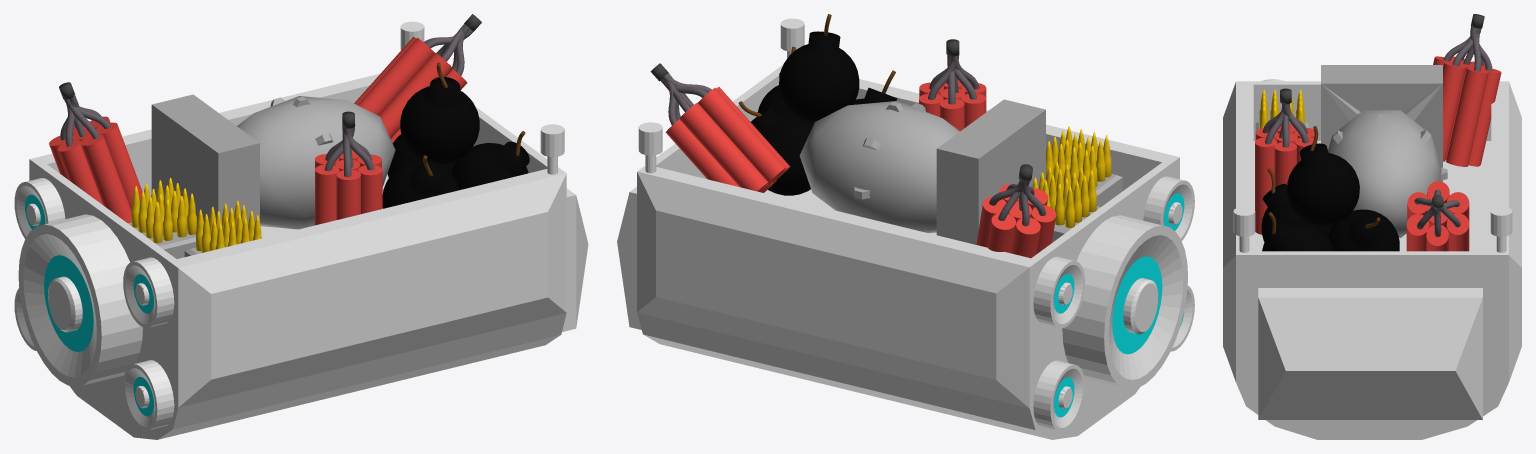
Rendered from Payload.fbx.
3 renders of one model, left to right at view 1: azimuth 30°, elevation 25°; view 2: azimuth 150°, elevation 25°; view 3: azimuth 270°, elevation 25°, orthographic. The views are drawn at different scales.
Parts seen in each view (by area): view 1: Cube, Icosphere, Cylinder.001, BezierCurve.009, Cylinder.002, Cylinder, Cube.001, BezierCurve.004, BezierCurve.005, Cube.002, BezierCurve.002, BezierCurve.001 (+2 smaller); view 2: Cube, Icosphere, Cylinder.002, BezierCurve.009, Cylinder.001, Cube.002, BezierCurve.008, Cube.001, Cylinder, BezierCurve.001, BezierCurve.002, BezierCurve.003 (+1 smaller); view 3: Cube, Icosphere, Cylinder.001, BezierCurve.009, Cylinder.002, Cylinder, BezierCurve.008, BezierCurve.004, BezierCurve.005, BezierCurve.001, BezierCurve.002, BezierCurve.003 (+1 smaller).
Boxes of the visible parts, x1,y1,x2,y2 form: Cube: [14, 21, 588, 439]; Icosphere: [151, 94, 395, 229]; Cylinder.001: [49, 82, 142, 223]; BezierCurve.009: [400, 62, 479, 164]; Cylinder.002: [354, 14, 481, 143]; Cylinder: [315, 111, 382, 225]; Cube.001: [128, 177, 196, 258]; BezierCurve.004: [451, 131, 529, 189]; BezierCurve.005: [382, 155, 459, 208]; Cube.002: [184, 200, 261, 256]; BezierCurve.002: [60, 94, 110, 146]; BezierCurve.001: [324, 124, 374, 177]; Cube: [617, 18, 1194, 439]; Icosphere: [799, 99, 1045, 244]; Cylinder.002: [650, 63, 790, 192]; BezierCurve.009: [779, 14, 859, 122]; Cylinder.001: [976, 164, 1056, 258]; Cube.002: [1046, 126, 1122, 206]; BezierCurve.008: [738, 101, 813, 195]; Cube.001: [1032, 161, 1100, 242]; Cylinder: [919, 39, 986, 131]; BezierCurve.001: [928, 55, 979, 104]; BezierCurve.002: [989, 180, 1045, 226]; BezierCurve.003: [660, 73, 711, 125]; Cube: [1223, 79, 1521, 439]; Icosphere: [1321, 65, 1447, 237]; Cylinder.001: [1433, 14, 1501, 166]; BezierCurve.009: [1287, 126, 1359, 225]; Cylinder.002: [1406, 181, 1469, 251]; Cylinder: [1255, 88, 1317, 234]; BezierCurve.008: [1328, 209, 1399, 251]; BezierCurve.004: [1262, 212, 1333, 251]; BezierCurve.005: [1261, 168, 1333, 241]; BezierCurve.001: [1262, 103, 1308, 147]; BezierCurve.002: [1443, 24, 1491, 71]; BezierCurve.003: [1414, 189, 1460, 236].
Bounding box in the file's own units: 389 × 233 × 229.
